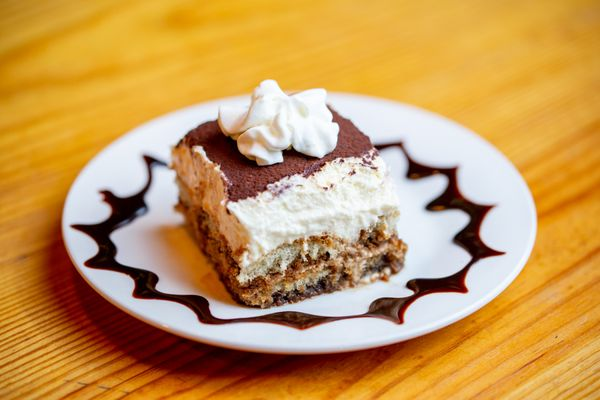curry: (9, 1, 599, 392)
sushi: (170, 80, 408, 307)
